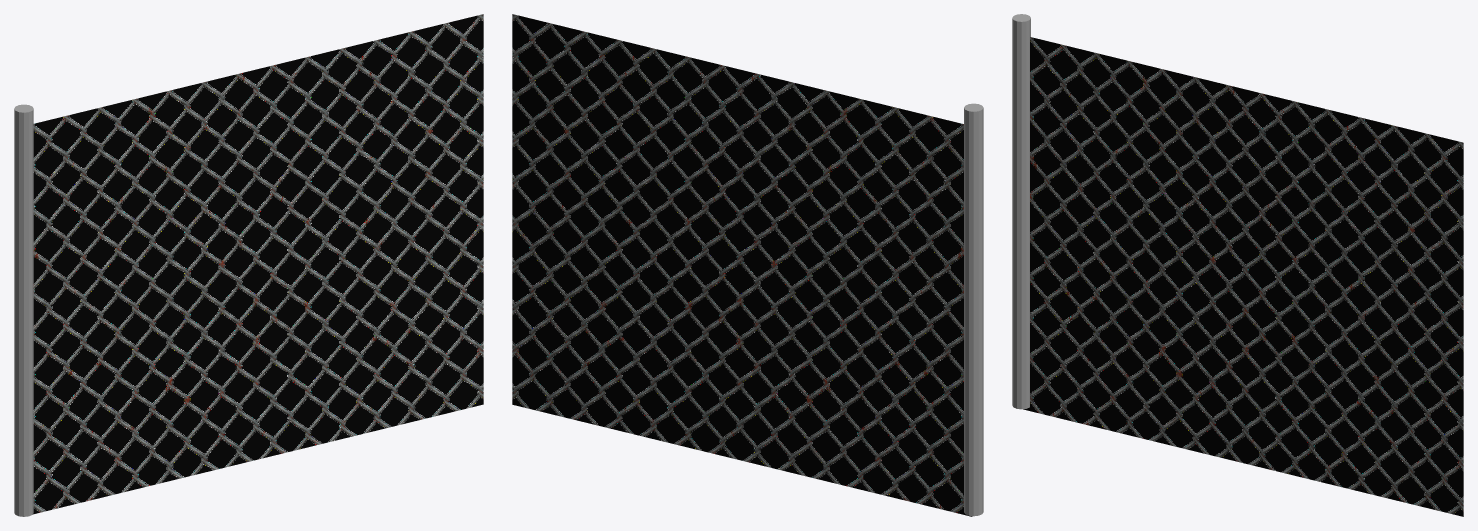
Rendered from ChainlinkFence.fbx.
3 renders of one model, left to right at view 1: azimuth 30°, elevation 25°; view 2: azimuth 150°, elevation 25°; view 3: azimuth 330°, elevation 25°, orthographic. The views are drawn at different scales.
Visible parts, largest first — view 1: pPlane1, pCylinder1; view 2: pPlane1, pCylinder1; view 3: pPlane1, pCylinder1.
Boxes of the visible parts, box(x1,y1,x2,y2) form: pPlane1: box(33, 14, 483, 514); pCylinder1: box(14, 104, 33, 516); pPlane1: box(512, 14, 972, 516); pCylinder1: box(964, 103, 983, 516); pPlane1: box(1023, 37, 1463, 516); pCylinder1: box(1012, 14, 1030, 409).
Bounding box in the file's own units: 9.23 × 7.69 × 0.3346.
